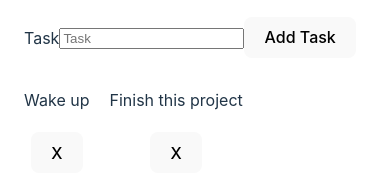
Test: should remove a task
In the field labelled "Task": (152, 39) [59,28,244,49], type "Push to github"
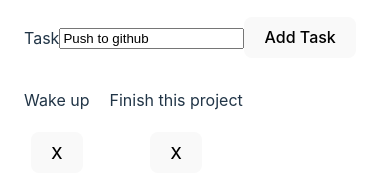
Click the button "Add Task": (300, 37) [244,17,356,58]
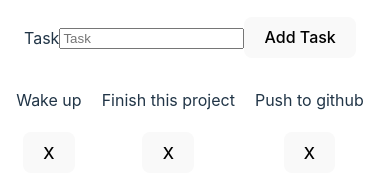
Expected: the text "Push to github" is shown, [255,88,364,112]
Click the button "X" below "Push to github": (309, 153) [284,132,335,173]
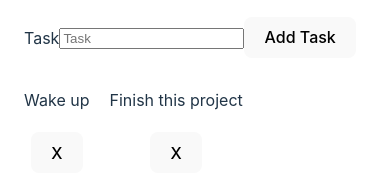
Expected: the text "Push to github" is gone
